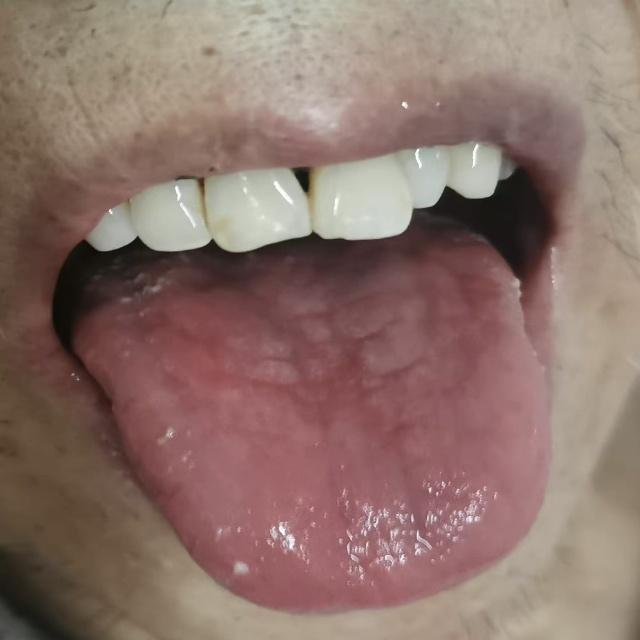baitaishe: (70, 212, 551, 613)
liewenshe: (243, 286, 420, 399)
